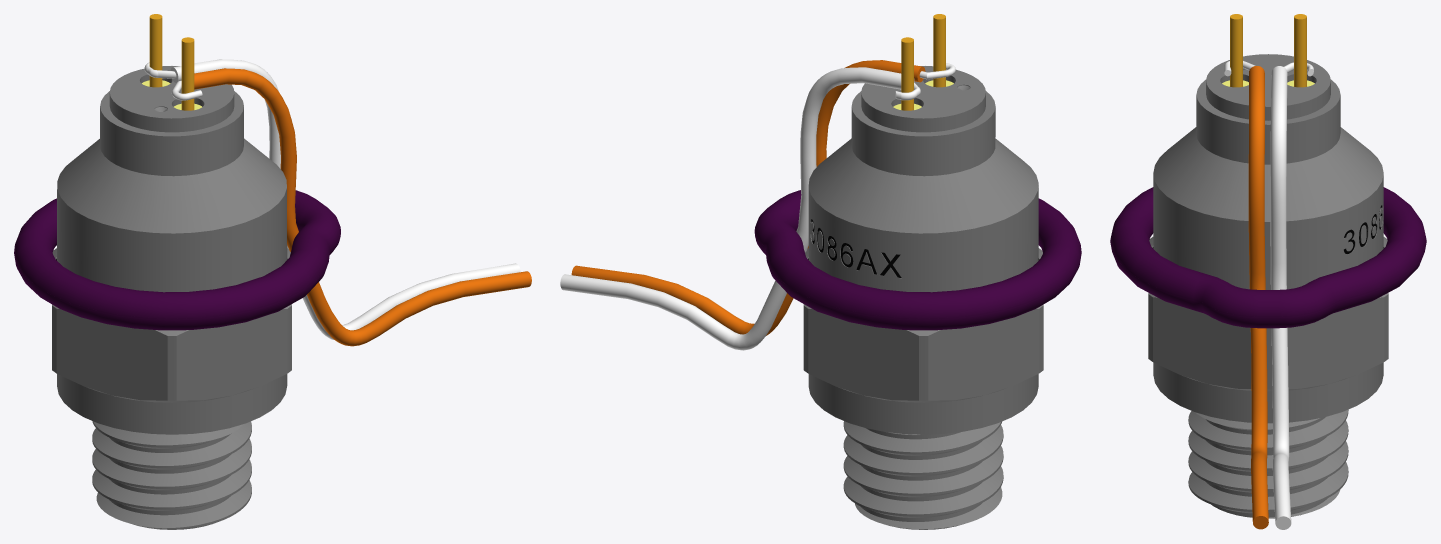
3 views of the same model, side by side, from view 1: azimuth 30°, elevation 25°; view 2: azimuth 150°, elevation 25°; view 3: azimuth 270°, elevation 25° (orthographic).
Visible parts, largest first — view 1: 3086AX; view 2: 3086AX; view 3: 3086AX.
Boxes of the visible parts, <box> form: 3086AX: <box>14,14,531,529</box>; 3086AX: <box>560,14,1081,529</box>; 3086AX: <box>1110,14,1426,529</box>.
Size of the model in its own units: 2.24 by 2.08 by 1.25.
